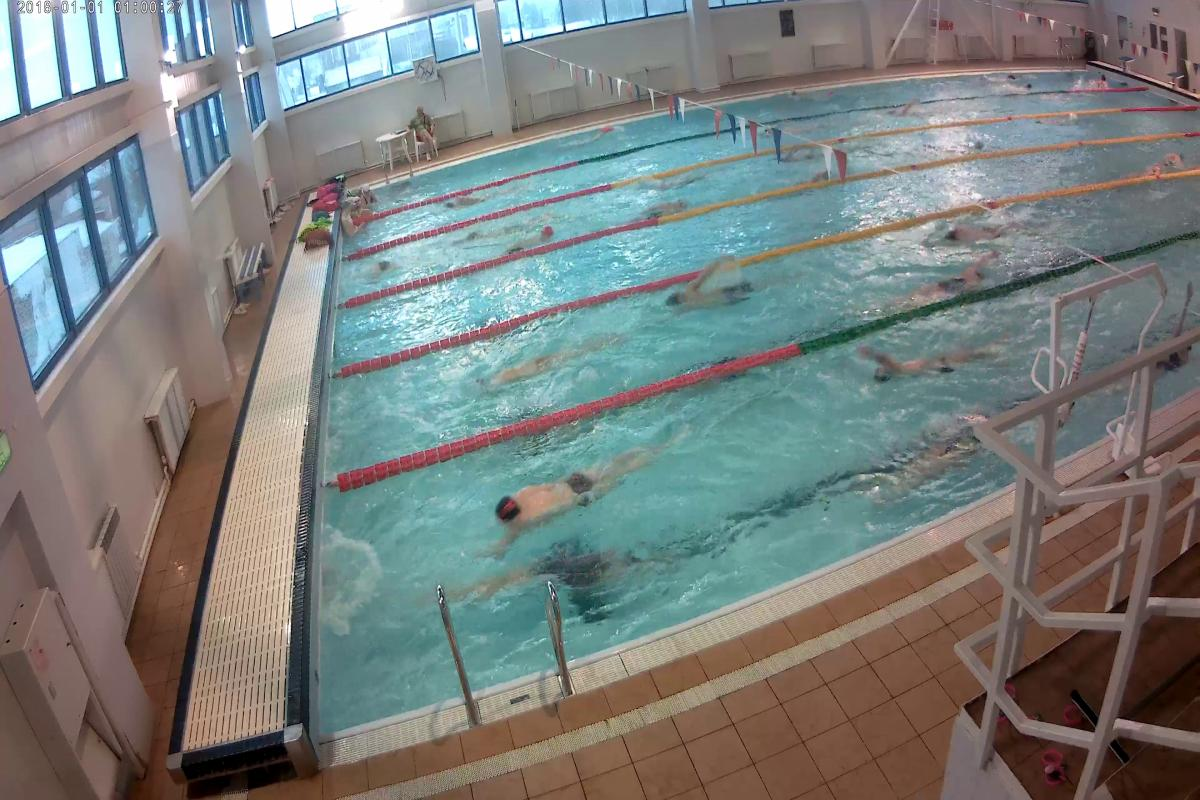swimmer: (484, 456, 638, 546), (458, 550, 652, 603), (862, 332, 1012, 392), (482, 340, 600, 388), (886, 421, 969, 489), (898, 261, 994, 308), (661, 272, 764, 312), (923, 220, 1007, 254), (498, 219, 564, 254), (637, 196, 694, 218)
